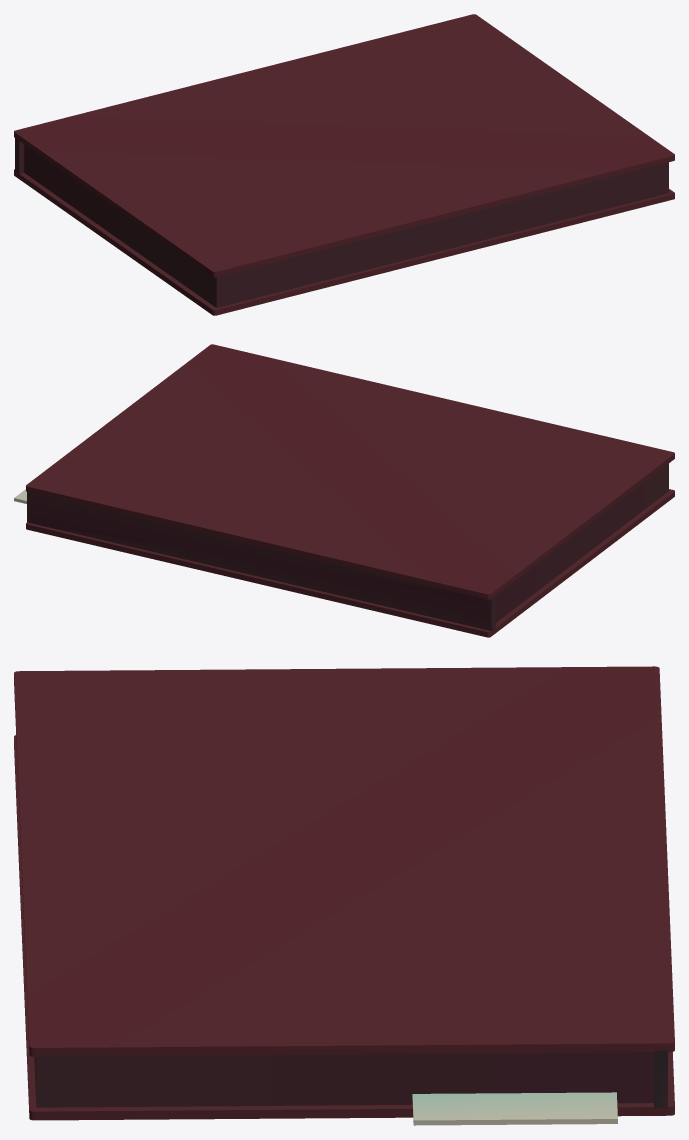
3 views of the same model, one above another, from view 1: azimuth 30°, elevation 25°; view 2: azimuth 150°, elevation 25°; view 3: azimuth 270°, elevation 25° (orthographic). The views are drawn at different scales.
Parts seen in each view (by area): view 1: top_cover, recessed_band, bottom_cover; view 2: top_cover, recessed_band, bottom_cover; view 3: top_cover, recessed_band, bottom_cover, edge_tab.
Boxes of the visible parts, left/top/right/bottom form: top_cover: left=14, top=14, right=674, bottom=277; recessed_band: left=15, top=138, right=668, bottom=307; bottom_cover: left=14, top=169, right=674, bottom=315; top_cover: left=26, top=344, right=674, bottom=599; recessed_band: left=27, top=463, right=668, bottom=630; bottom_cover: left=26, top=489, right=674, bottom=637; top_cover: left=14, top=666, right=674, bottom=1056; recessed_band: left=34, top=1051, right=667, bottom=1108; bottom_cover: left=14, top=735, right=674, bottom=1120; edge_tab: left=412, top=1092, right=617, bottom=1125.
Bounding box in the file's own units: 0.2044 × 0.0172 × 0.1423.
